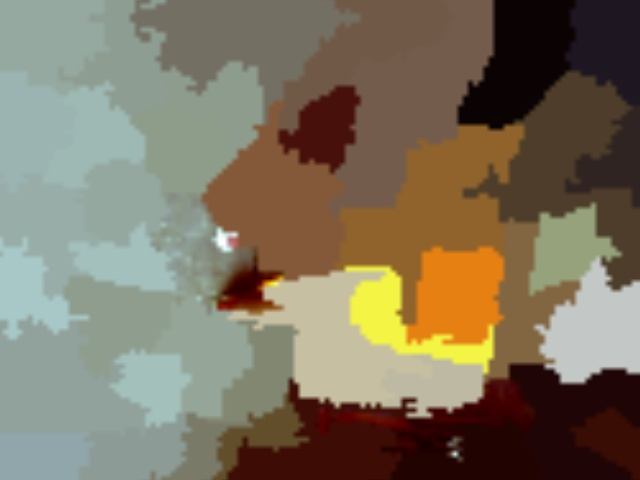one: (610, 315, 639, 360)
